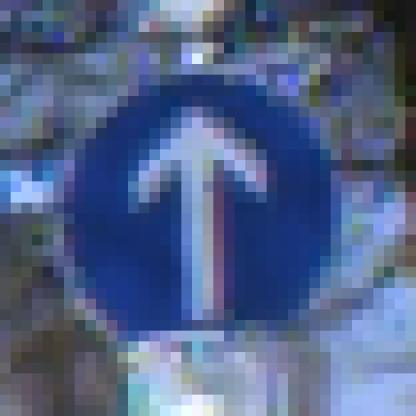AheadOnly: (54, 65, 364, 364)
